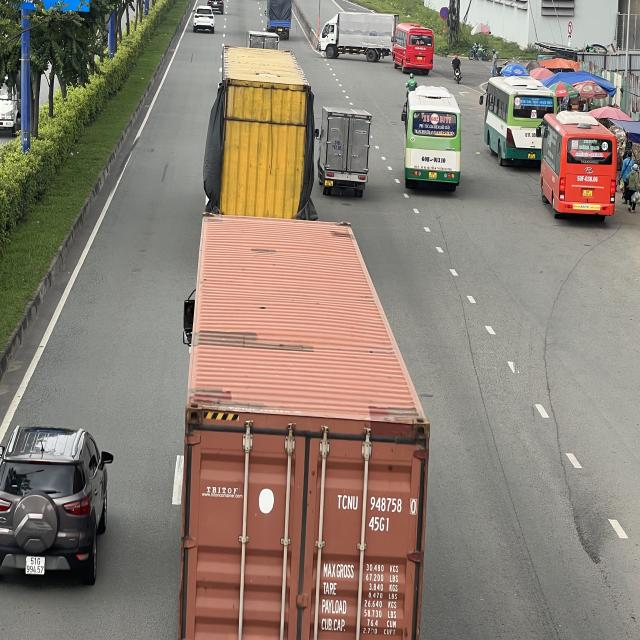car: (1, 428, 113, 587), (193, 6, 216, 34)
coach: (541, 111, 620, 219), (481, 75, 558, 170), (404, 87, 465, 192), (392, 24, 435, 75)
container: (180, 214, 430, 640), (211, 44, 316, 231)
truck: (316, 107, 373, 197), (320, 12, 396, 62), (264, 0, 294, 37)
